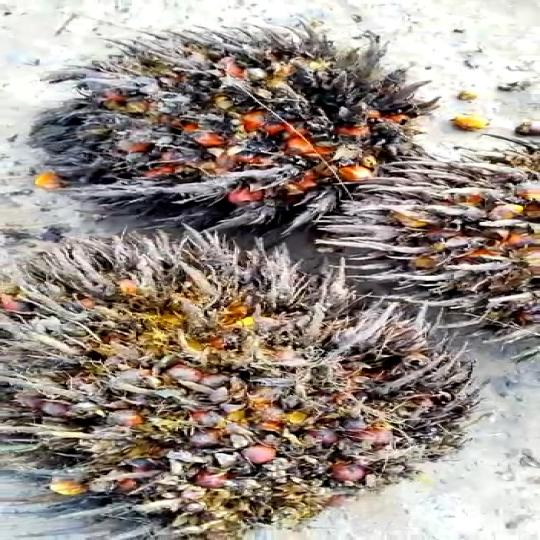terlalu masak: (0, 226, 491, 537), (7, 19, 428, 228)
